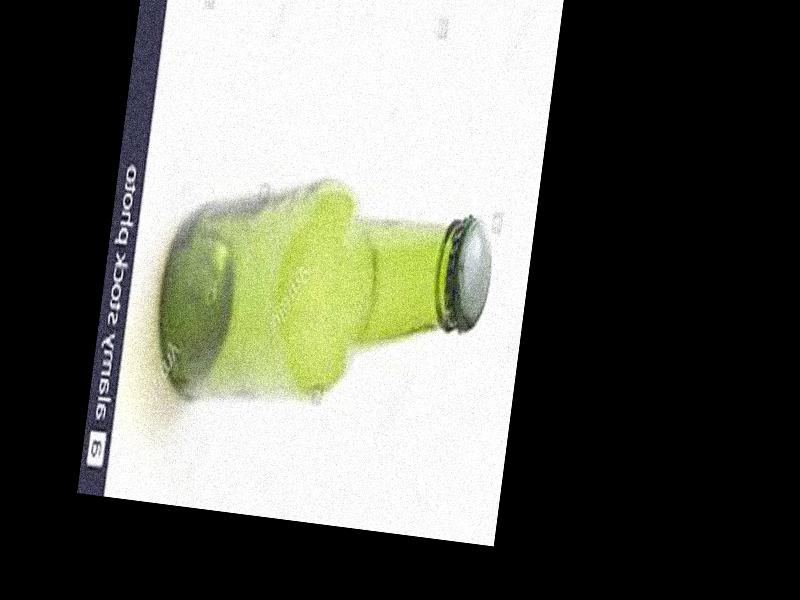Beer: (148, 176, 498, 434)
